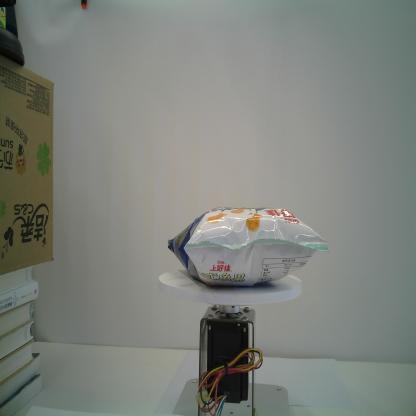Puffed Food: (167, 206, 329, 290)
